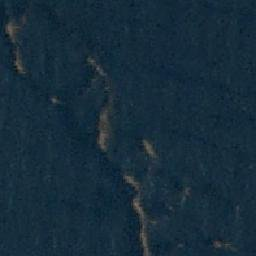debris: (96, 97, 112, 150), (87, 58, 109, 77), (140, 138, 158, 160), (208, 238, 236, 252), (124, 174, 143, 193), (138, 217, 149, 248), (4, 23, 19, 44), (13, 45, 24, 73), (133, 194, 144, 215), (178, 188, 193, 203), (49, 96, 64, 107)
